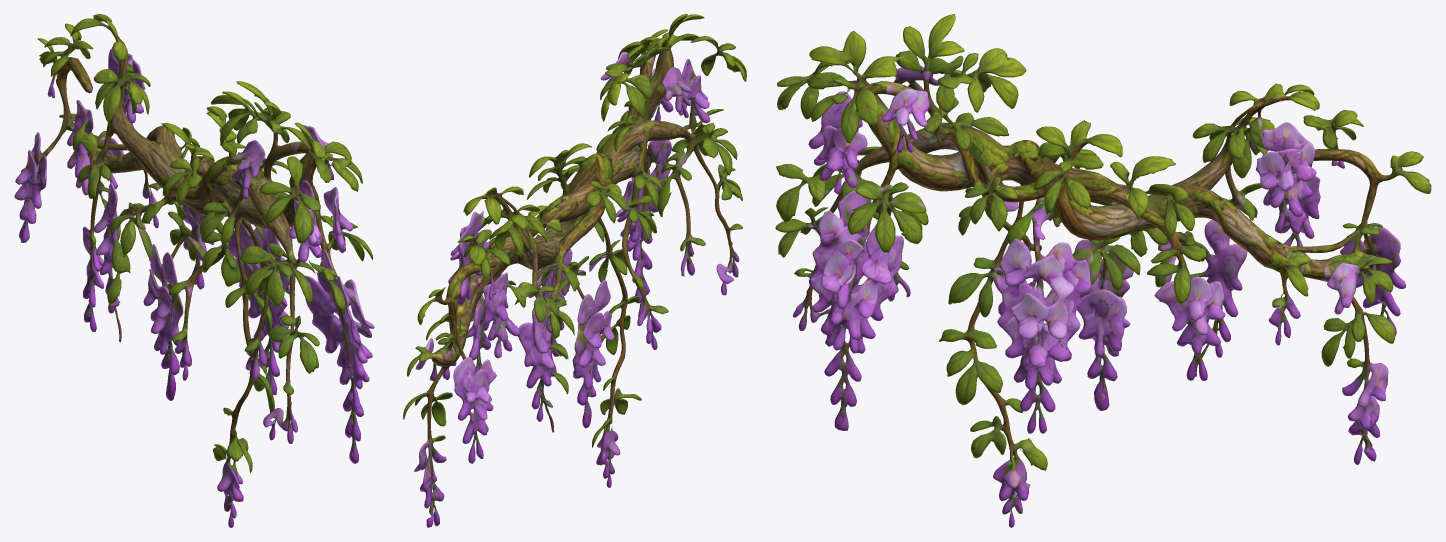
The picture shows the model from 3 angles, left to right: view 1: azimuth 30°, elevation 25°; view 2: azimuth 150°, elevation 25°; view 3: azimuth 270°, elevation 25°; orthographic projection. The views are drawn at different scales.
Visible parts, largest first — view 1: tripo_node_07348ca6-84d9-4392-aff9-b1d287921f44; view 2: tripo_node_07348ca6-84d9-4392-aff9-b1d287921f44; view 3: tripo_node_07348ca6-84d9-4392-aff9-b1d287921f44.
Boxes of the visible parts, bbox=[...] form: tripo_node_07348ca6-84d9-4392-aff9-b1d287921f44: bbox=[14, 14, 374, 527]; tripo_node_07348ca6-84d9-4392-aff9-b1d287921f44: bbox=[403, 14, 746, 527]; tripo_node_07348ca6-84d9-4392-aff9-b1d287921f44: bbox=[775, 14, 1431, 527].
Size of the model in its own units: 0.2406 by 0.8127 by 0.9616.
1 material, 1 textured.
